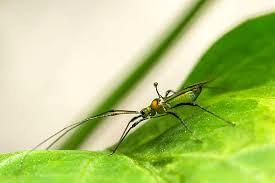Helopeltis-insect: (140, 79, 205, 123)
